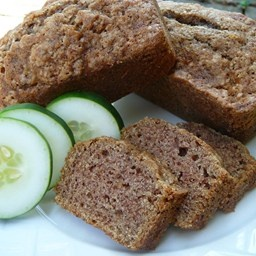background: (0, 0, 102, 101)
